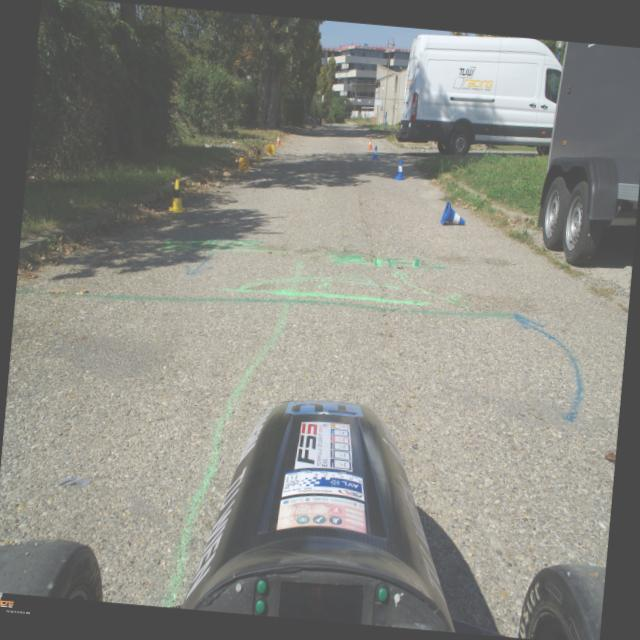blue_cone: (439, 200, 466, 227), (392, 160, 407, 180), (370, 144, 380, 160)
orange_cone: (274, 132, 282, 146), (366, 136, 374, 150)
yellow_cone: (166, 178, 188, 212), (238, 156, 250, 172), (253, 145, 264, 162), (266, 144, 274, 156)
